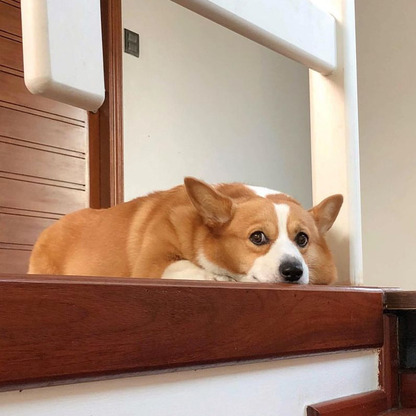Corgi: (22, 178, 346, 297)
